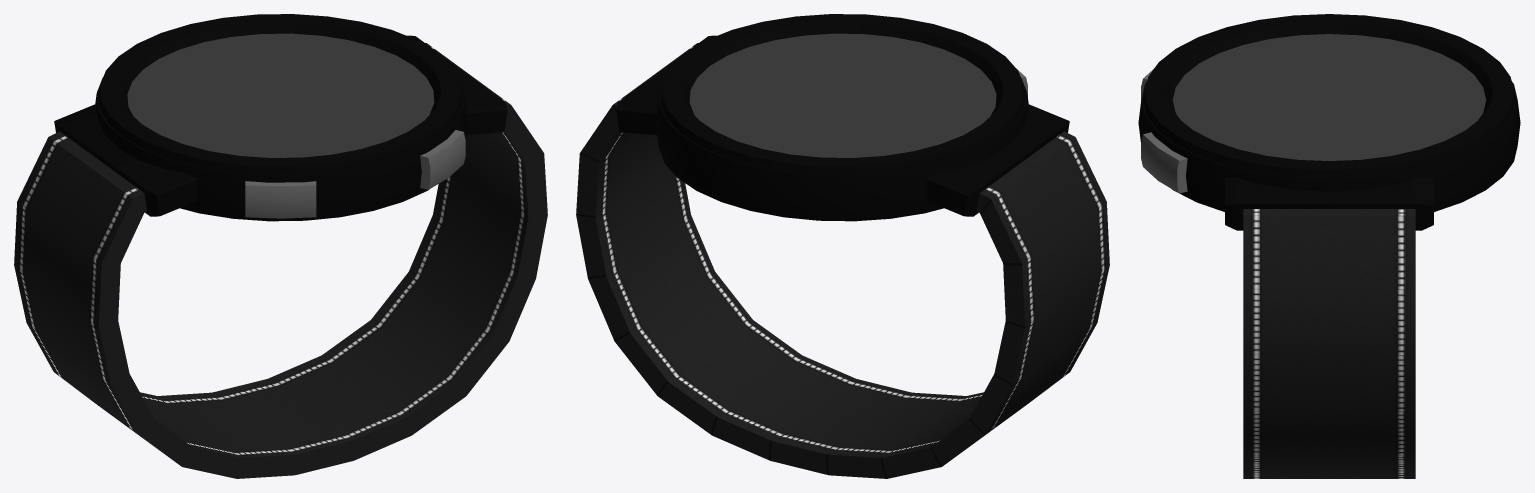
The model's file is Watch.fbx.
The picture shows the model from 3 angles, left to right: view 1: azimuth 30°, elevation 25°; view 2: azimuth 150°, elevation 25°; view 3: azimuth 270°, elevation 25°; orthographic projection.
Parts seen in each view (by area): view 1: Cylinder; view 2: Cylinder; view 3: Cylinder.
Boxes of the visible parts, <box> form: Cylinder: <box>14,14,547,478</box>; Cylinder: <box>576,14,1109,478</box>; Cylinder: <box>1138,14,1520,478</box>.
Size of the model in its own units: 24.19 by 17.86 by 17.48.
Materials: 1 (1 with a texture image).
